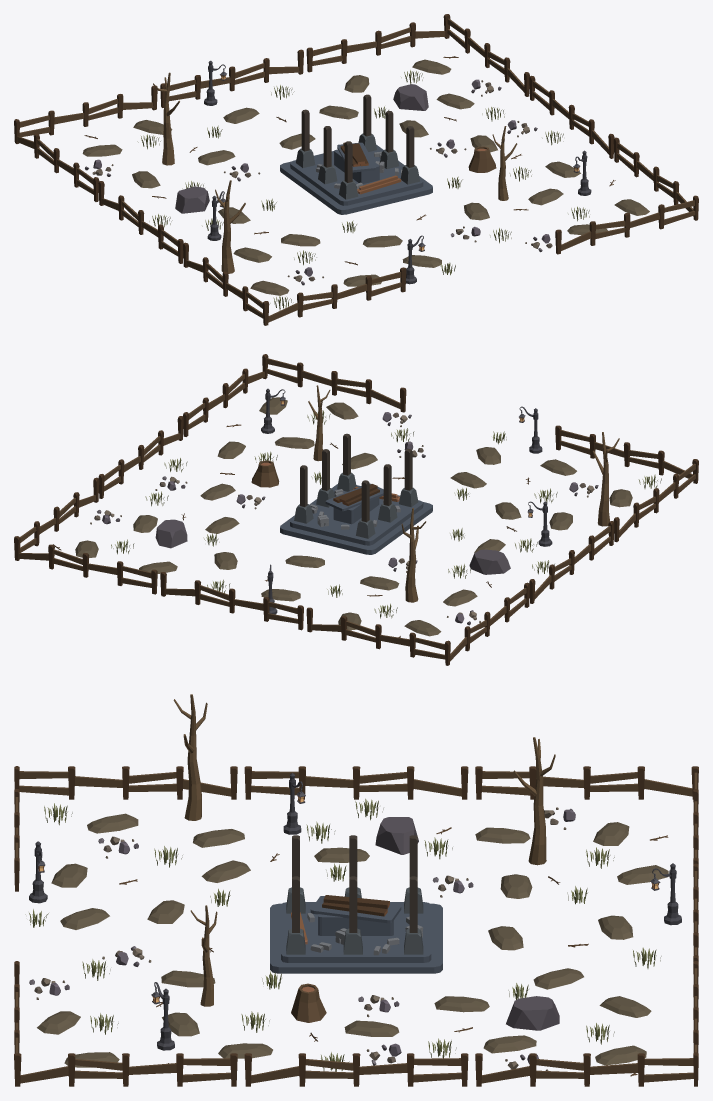
File: Building_Graveyard_Square st2.fbx
3 renders of one model, top to bottom at view 1: azimuth 30°, elevation 25°; view 2: azimuth 150°, elevation 25°; view 3: azimuth 270°, elevation 25°, orthographic. The views are drawn at different scales.
Parts seen in each view (by area): view 1: Building_Graveyard_Square st2; view 2: Building_Graveyard_Square st2; view 3: Building_Graveyard_Square st2.
Boxes of the visible parts, x1=… form: Building_Graveyard_Square st2: x1=14, y1=14, x2=698, y2=325; Building_Graveyard_Square st2: x1=14, y1=354, x2=698, y2=665; Building_Graveyard_Square st2: x1=14, y1=694, x2=698, y2=1086.
Bounding box in the file's own units: 594 × 118 × 594.
